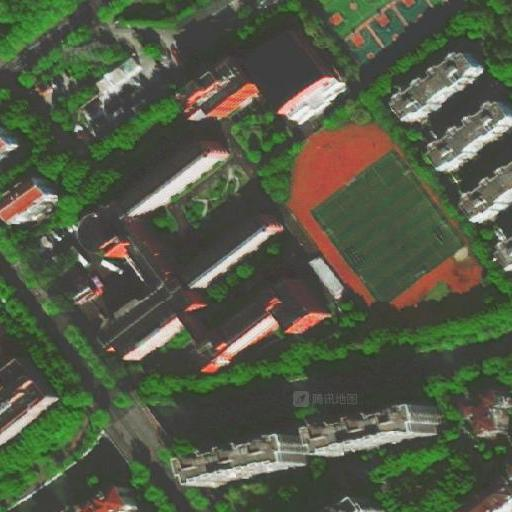building: (77, 200, 190, 362), (189, 272, 335, 375), (233, 23, 351, 128), (307, 398, 444, 455), (124, 144, 225, 218), (180, 430, 302, 485), (186, 217, 275, 291), (388, 50, 479, 121), (433, 101, 511, 174), (0, 361, 58, 448), (194, 70, 262, 129), (2, 173, 61, 227), (464, 170, 512, 230), (83, 46, 137, 92), (462, 390, 512, 439), (69, 481, 147, 512), (308, 242, 351, 292), (457, 481, 512, 512), (65, 268, 102, 306), (495, 232, 512, 263)
